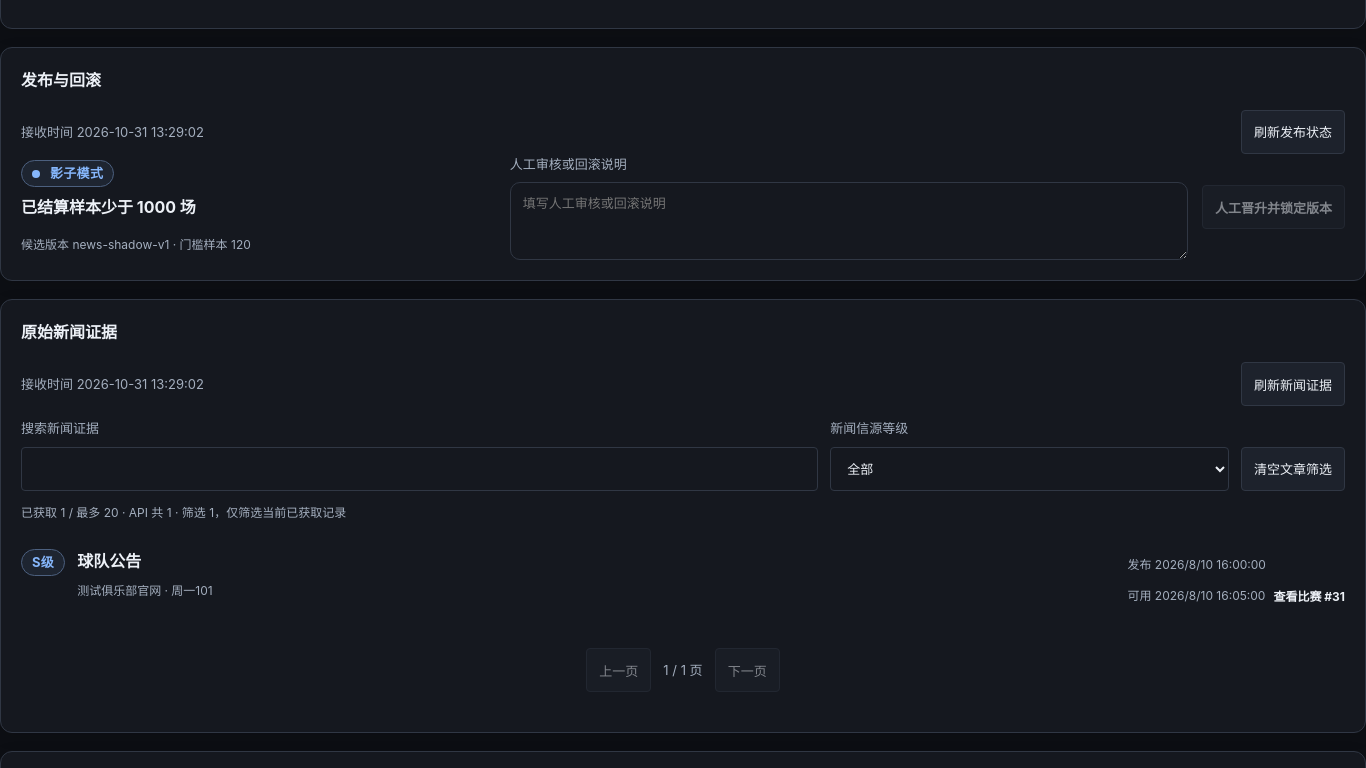
Test: NewsIntelligencePage › same-resource refresh failure retains articles; successful empty clears them
(page scrolled)
Expected: the link "球队公告" is shown, [77,551,141,571]
Step 1. Click the button "刷新新闻证据" → [1293, 384], box [1241,362,1345,406]
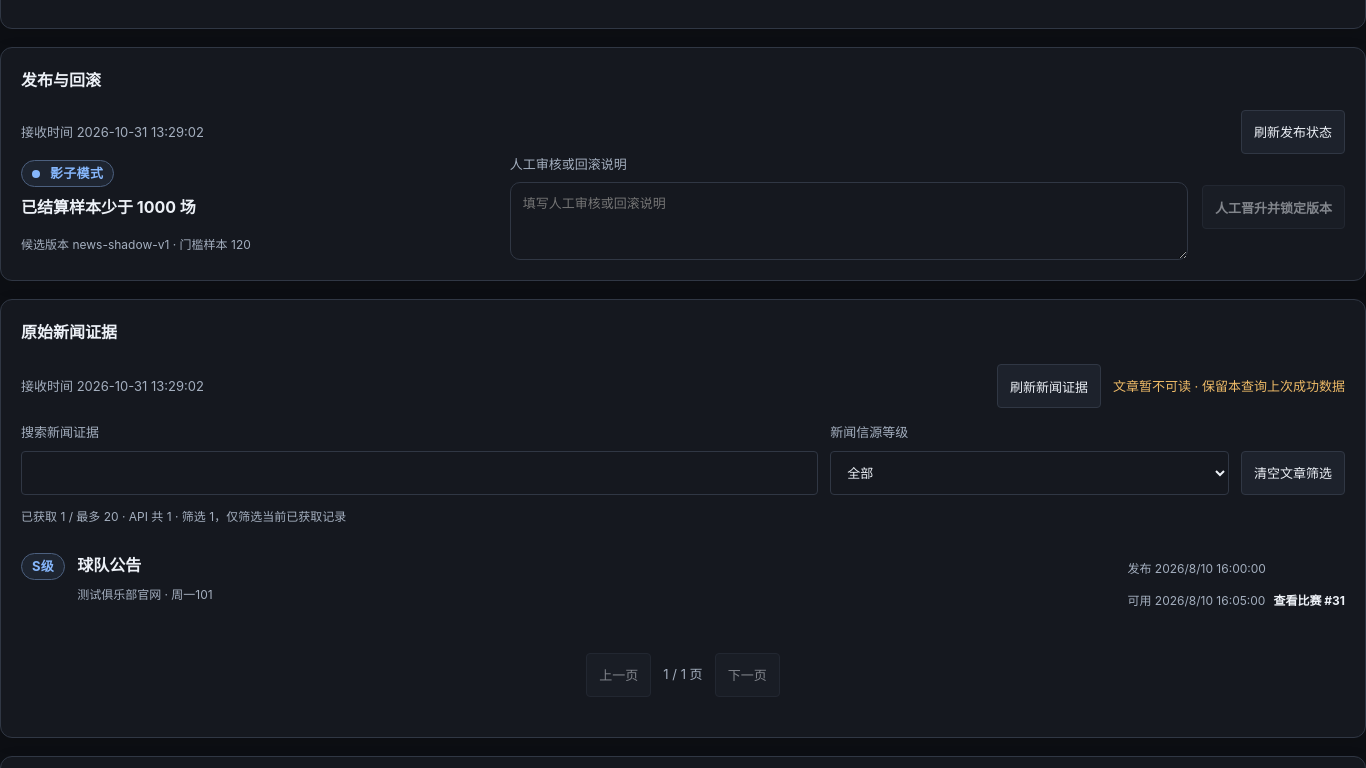
Expected: the link "球队公告" is shown, [77,555,141,575]
Result: the text "文章暂不可读 · 保留本查询上次成功数据" is shown at [1113,375,1345,397]
Step 2. Click the button "刷新新闻证据" → [1049, 386], box [997,364,1101,408]
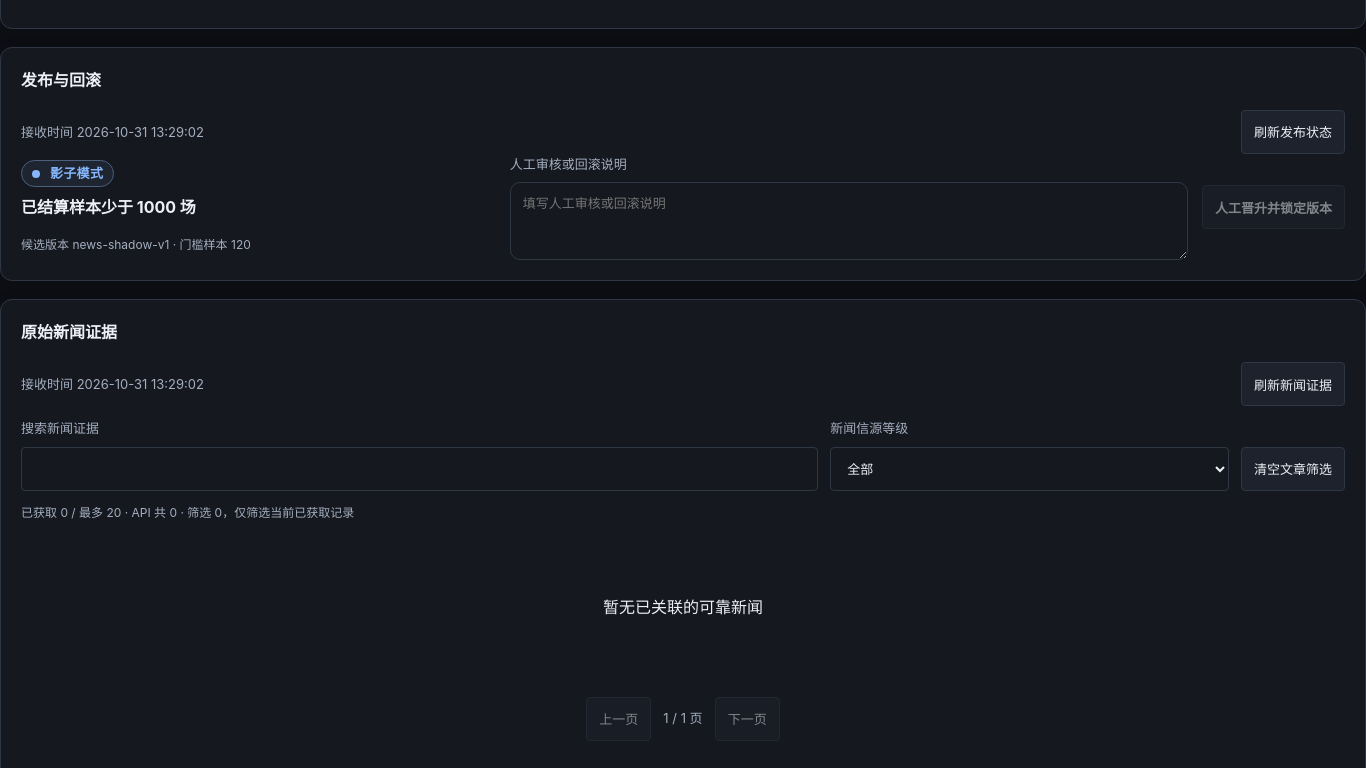
Result: the text "暂无已关联的可靠新闻" is shown at [603,597,763,617]
Result: the link "球队公告" is gone
